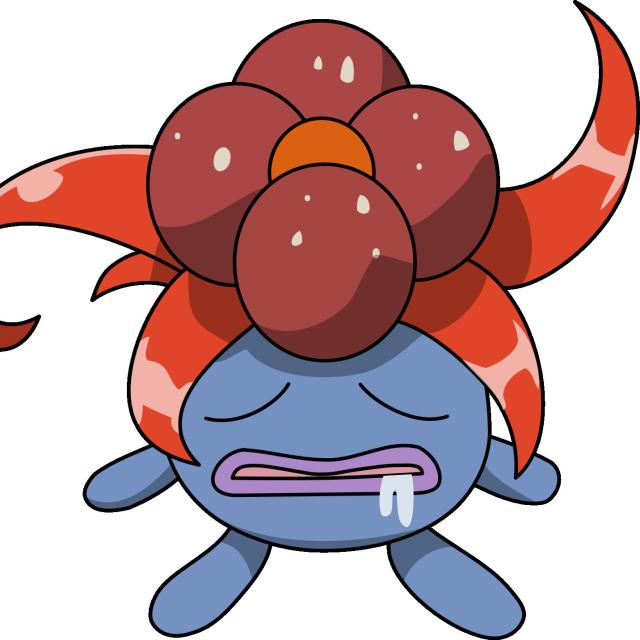Gloom: (104, 28, 535, 599)
